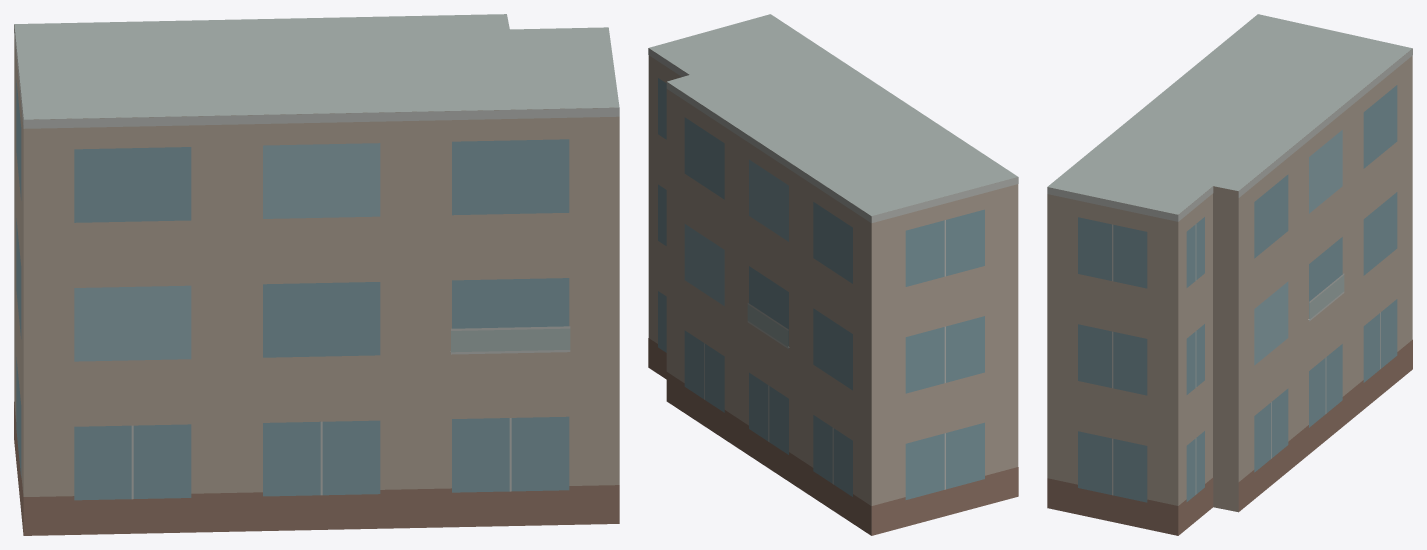
Rendered from survey-upis-32662102.glb.
3 views of the same model, side by side, from view 1: azimuth 30°, elevation 25°; view 2: azimuth 150°, elevation 25°; view 3: azimuth 270°, elevation 25° (orthographic). The views are drawn at different scales.
Visible parts, largest first — view 1: survey-upis-32662102.tmp; view 2: survey-upis-32662102.tmp; view 3: survey-upis-32662102.tmp.
Boxes of the visible parts, <box> form: survey-upis-32662102.tmp: <box>14,14,619,535</box>; survey-upis-32662102.tmp: <box>648,14,1018,535</box>; survey-upis-32662102.tmp: <box>1047,14,1412,535</box>.
Bounding box in the file's own units: 14.83 × 11.05 × 11.41.
